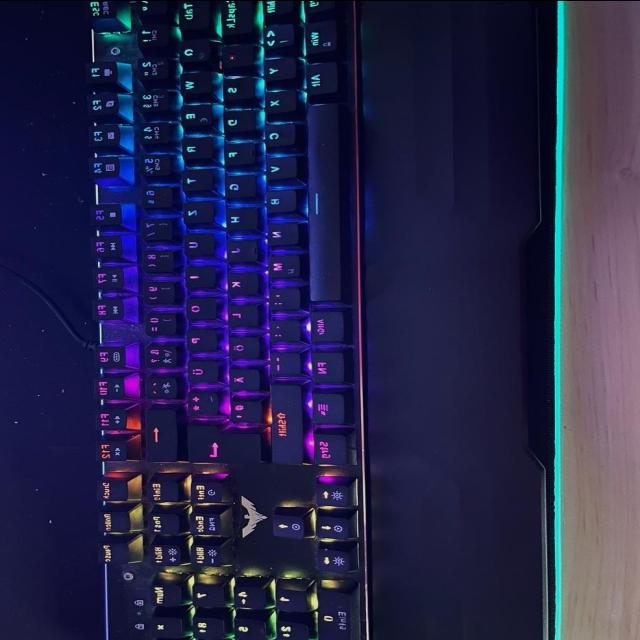0: (143, 310, 177, 336)
1: (135, 22, 169, 46)
2: (137, 55, 169, 79)
3: (135, 87, 171, 111)
4: (137, 120, 172, 145)
5: (139, 152, 173, 176)
6: (140, 183, 172, 207)
7: (139, 216, 171, 239)
8: (139, 246, 174, 272)
9: (141, 279, 175, 303)
a: (219, 42, 255, 66)
accent: (142, 372, 177, 398)
ae: (225, 365, 259, 390)
alt-left: (302, 59, 337, 93)
altgr-right: (308, 308, 343, 341)
b: (263, 187, 296, 211)
c: (262, 121, 294, 145)
caret: (136, 0, 166, 14)
comma: (267, 285, 299, 310)
d: (221, 108, 255, 130)
del: (142, 406, 176, 460)
e: (177, 102, 211, 126)
enter: (184, 423, 262, 461)
f: (221, 141, 254, 163)
g: (222, 173, 255, 196)
h: (223, 205, 257, 229)
hash: (228, 397, 261, 421)
i: (182, 263, 214, 287)
j: (223, 237, 257, 261)
k: (224, 269, 257, 295)
keyboard: (83, 0, 371, 640)
l: (224, 302, 258, 326)
less: (261, 21, 293, 47)
m: (266, 251, 300, 276)
minus: (267, 348, 299, 373)
n: (265, 220, 297, 244)
o: (183, 295, 215, 319)
oe: (225, 334, 259, 358)
p: (183, 326, 216, 350)
plus: (184, 388, 218, 414)
point: (267, 317, 299, 341)
q: (176, 35, 210, 61)
r: (178, 134, 212, 158)
s: (220, 75, 254, 99)
shift-left: (259, 0, 293, 15)
shift-lock: (218, 1, 253, 35)
shift-right: (268, 381, 302, 463)
space: (306, 99, 340, 301)
ss: (144, 342, 179, 366)
strg-left: (300, 0, 333, 12)
strg-right: (310, 430, 346, 464)
t: (177, 167, 211, 190)
tab: (175, 0, 209, 28)
u: (181, 231, 213, 255)
ue: (183, 357, 217, 381)
v: (263, 154, 295, 178)
w: (177, 69, 211, 94)
x: (262, 87, 295, 111)
y: (261, 55, 296, 79)
z: (180, 199, 212, 223)
